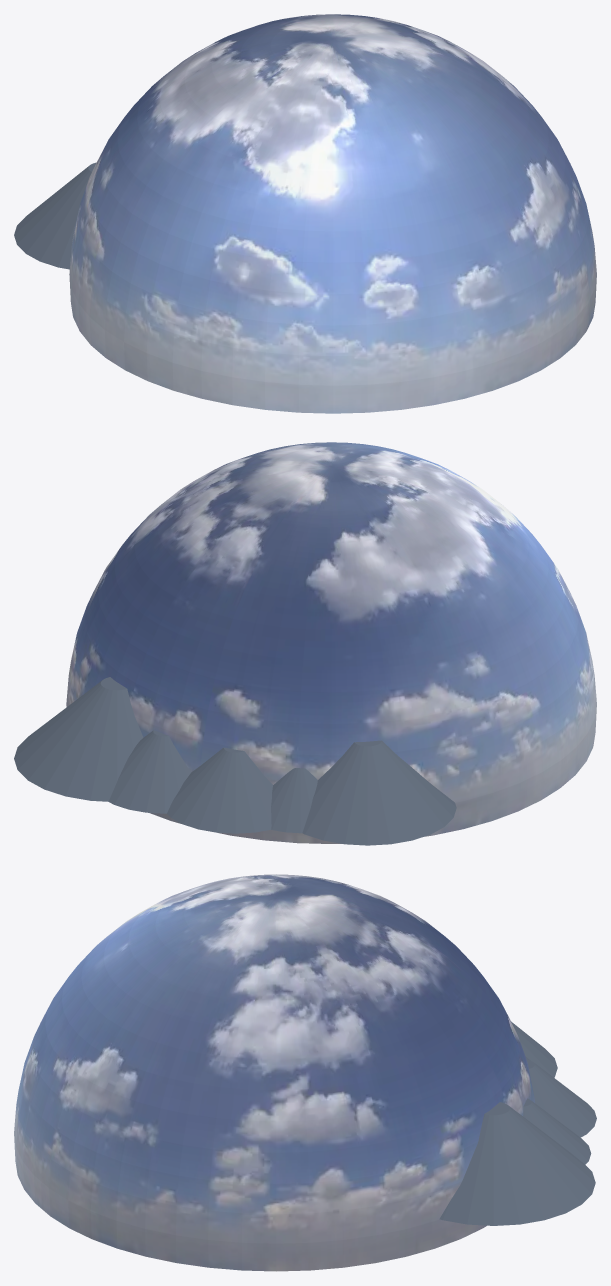
The model's file is farm-DaOG1Y1H.glb.
3 renders of one model, top to bottom at view 1: azimuth 30°, elevation 25°; view 2: azimuth 150°, elevation 25°; view 3: azimuth 270°, elevation 25°, orthographic.
Parts seen in each view (by area): view 1: SET_sky, SET_backdrop; view 2: SET_sky, SET_backdrop; view 3: SET_sky, SET_backdrop.
Boxes of the visible parts, left/top/right/bottom form: SET_sky: left=69, top=14, right=596, bottom=413; SET_backdrop: left=14, top=162, right=95, bottom=269; SET_sky: left=66, top=442, right=596, bottom=843; SET_backdrop: left=14, top=677, right=456, bottom=845; SET_sky: left=14, top=874, right=534, bottom=1271; SET_backdrop: left=439, top=1022, right=596, bottom=1225.
Bounding box in the file's own units: 370 × 204 × 411.
63 materials, 22 textured.
